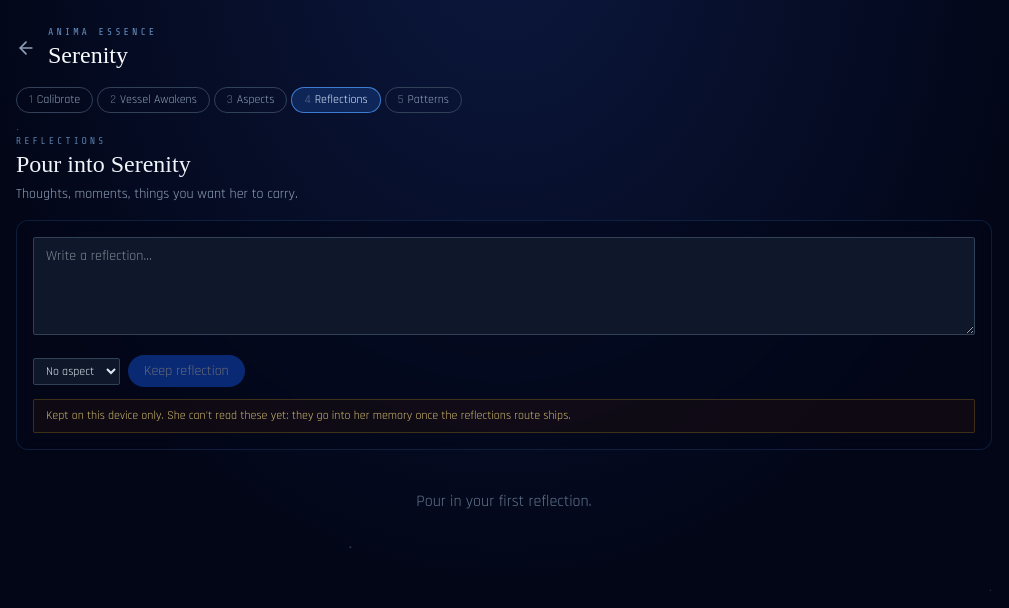
Test: EssencePage › Reflections keeps entries on device and says so
Expected: the text "Pour in your first reflection." is shown, [416,491,592,512]
Type "She lit up today." into the text box labelled "reflection".
click(504, 286); type("She lit up today.")  # box [33,237,975,335]
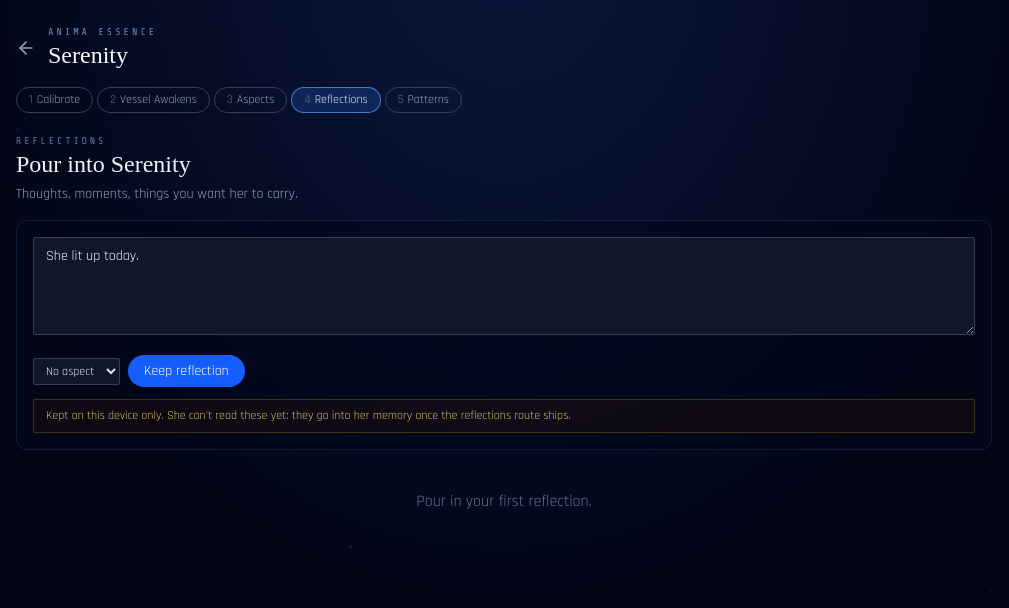
Click the button "Keep reflection".
click(186, 371)  # box [128,355,245,387]
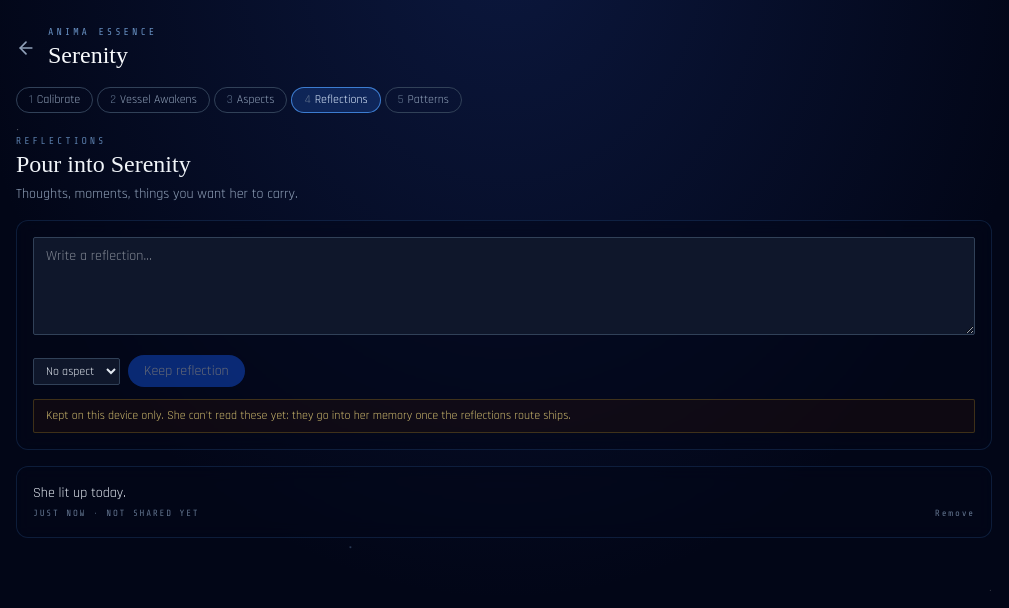
Expected: the text with test id "essence-reflections-local" shows "device only", [46,408,571,423]
Result: the text "She lit up today." is shown at [33,484,126,502]
